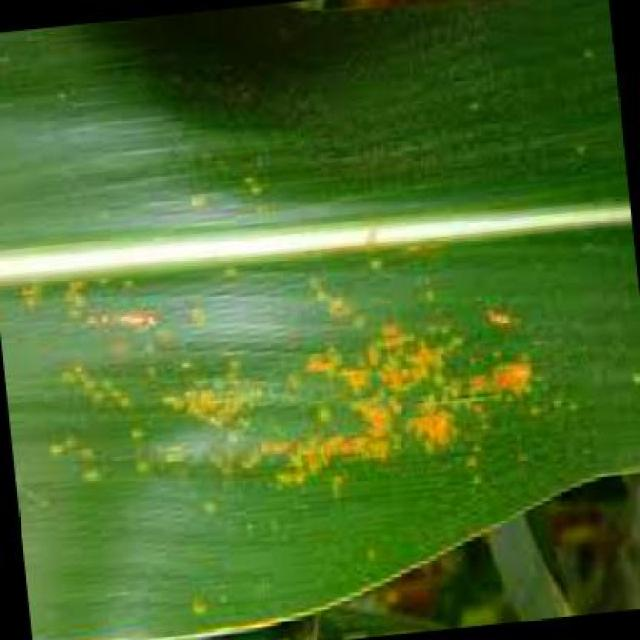Corn_Rust: (38, 60, 614, 598)
